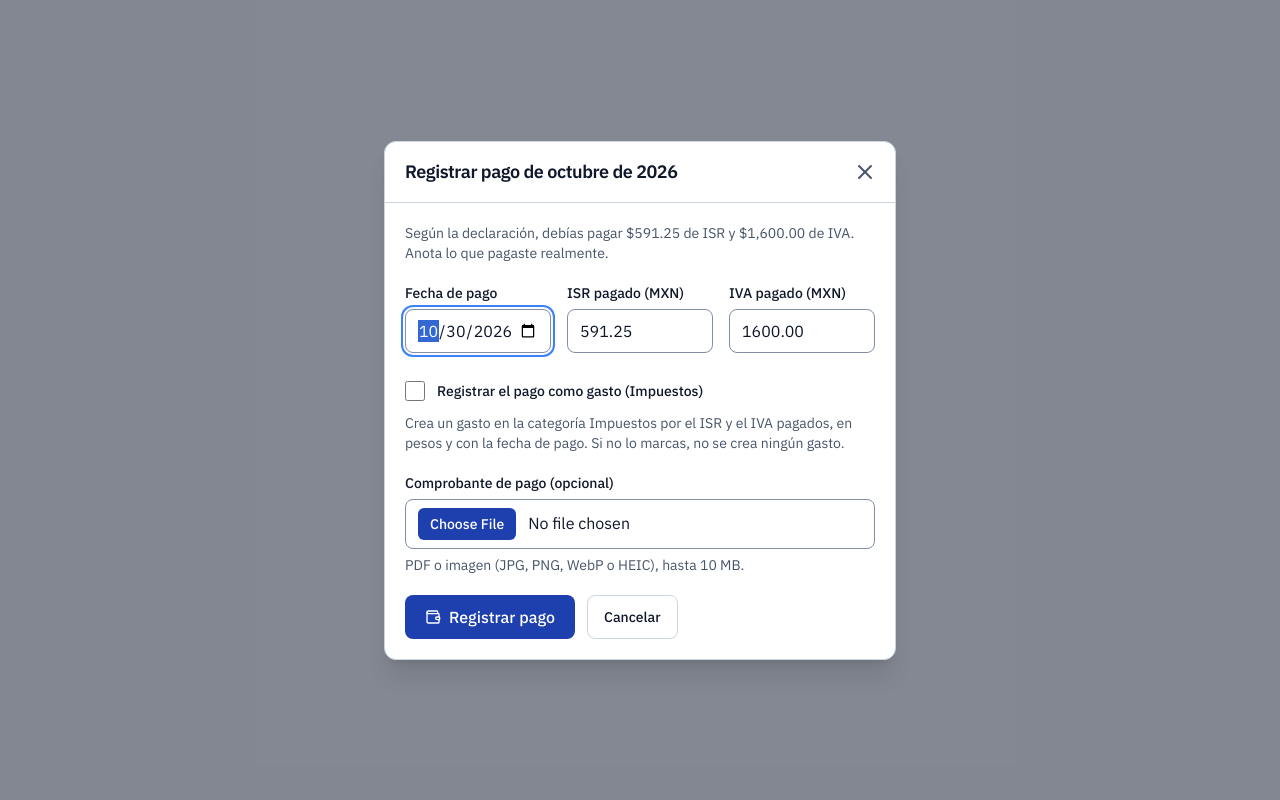
PaymentDialog › shows the API error and stays open
Click the button "Registrar pago". click: (490, 616)
box: x1=405 y1=594 x2=575 y2=638
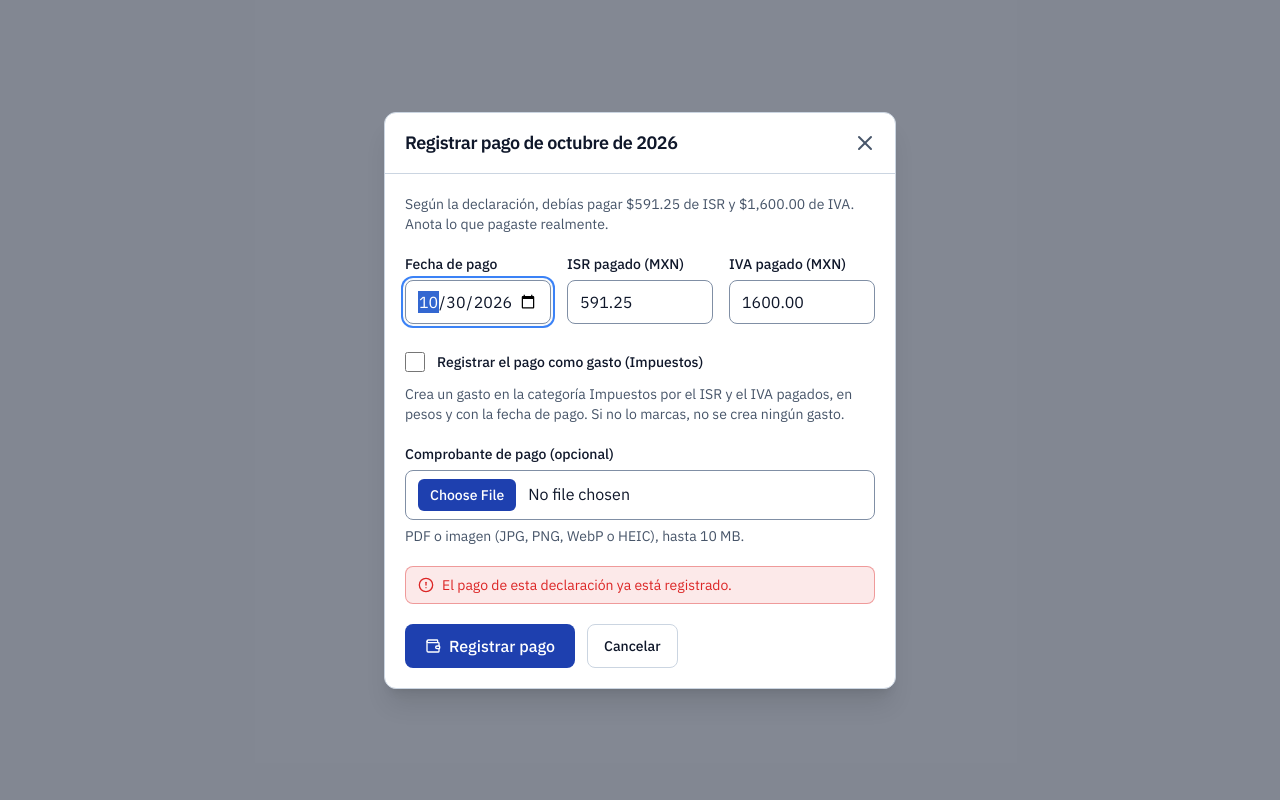
Check: the message shows "pago de esta declaración ya está registrado", box x1=442 y1=576 x2=732 y2=594
